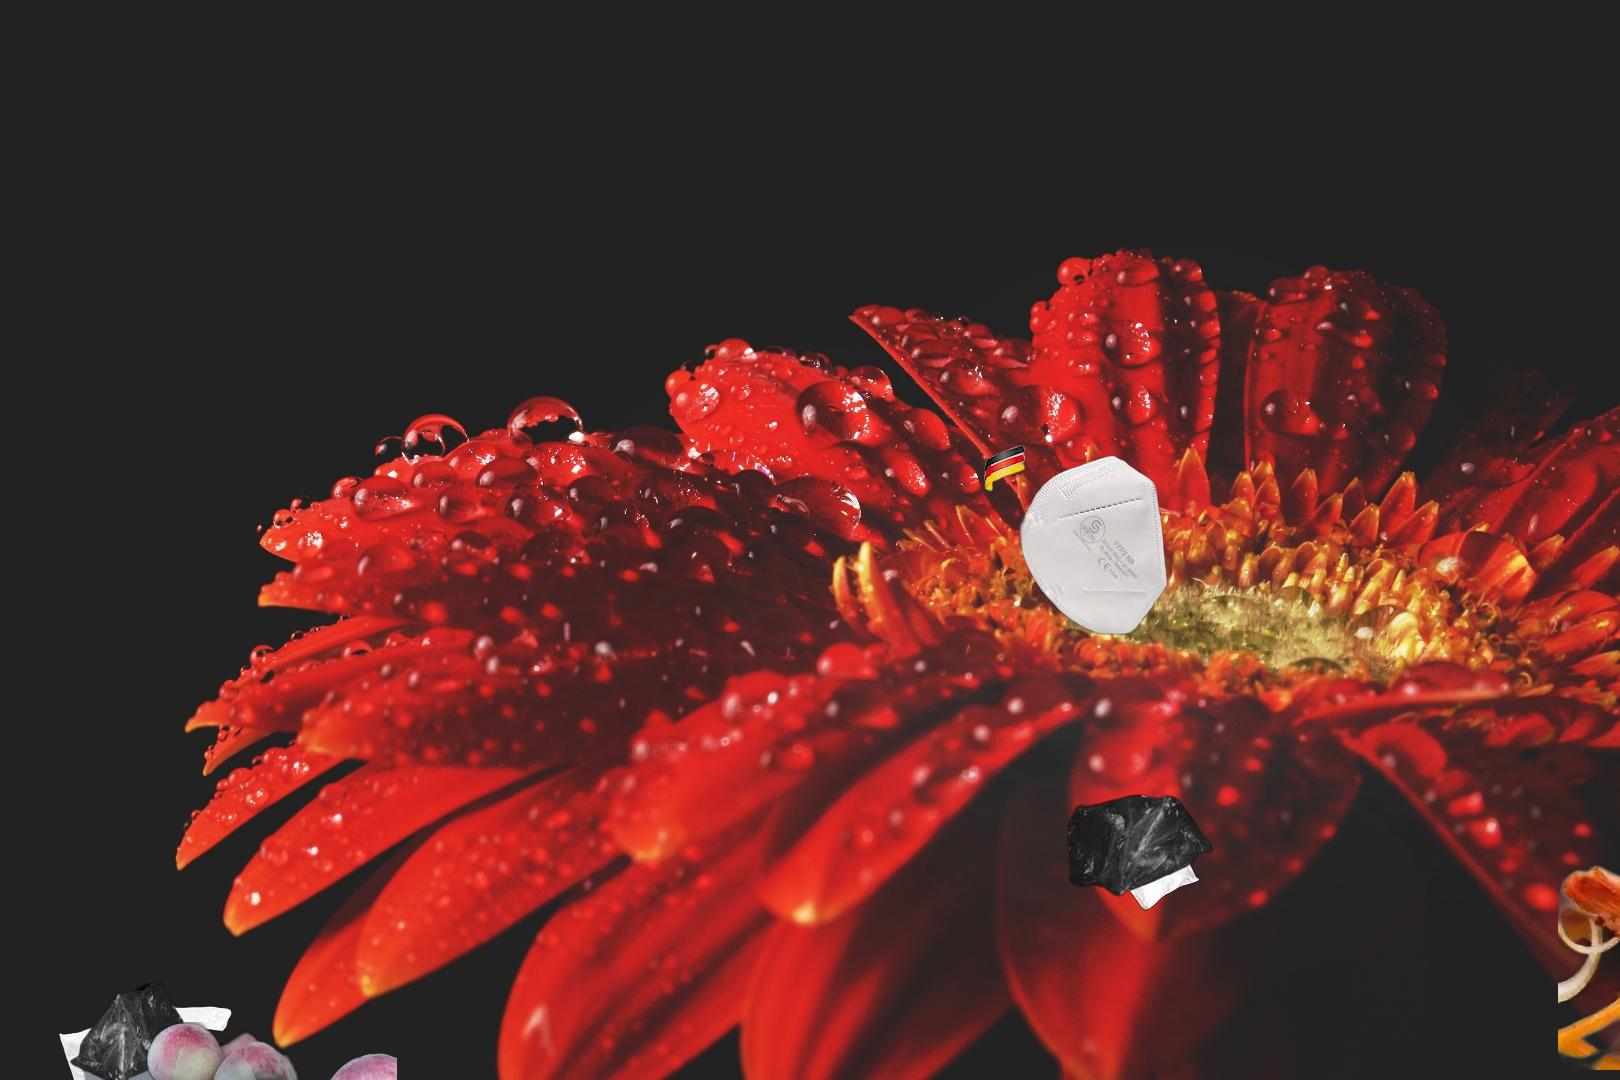biological: (1559, 759, 1620, 1070), (121, 1022, 397, 1080)
plastic-bag: (55, 980, 268, 1080), (1064, 792, 1216, 914)
trash: (981, 442, 1170, 636)
